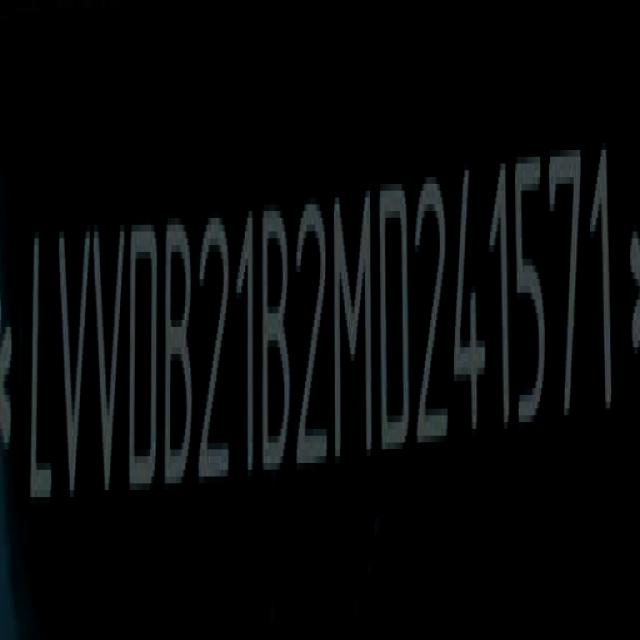1: (587, 138, 616, 434), (488, 152, 513, 452), (235, 202, 258, 476)
2: (294, 197, 330, 489), (415, 166, 450, 462), (199, 217, 231, 492)
5: (516, 146, 546, 431)
7: (548, 141, 584, 431)
B: (164, 202, 193, 509), (260, 199, 290, 487)
D: (379, 164, 413, 482), (128, 212, 160, 494)
L: (25, 222, 60, 514)
M: (332, 182, 377, 472), (453, 149, 486, 451)
V: (56, 224, 92, 502), (92, 222, 126, 512)
